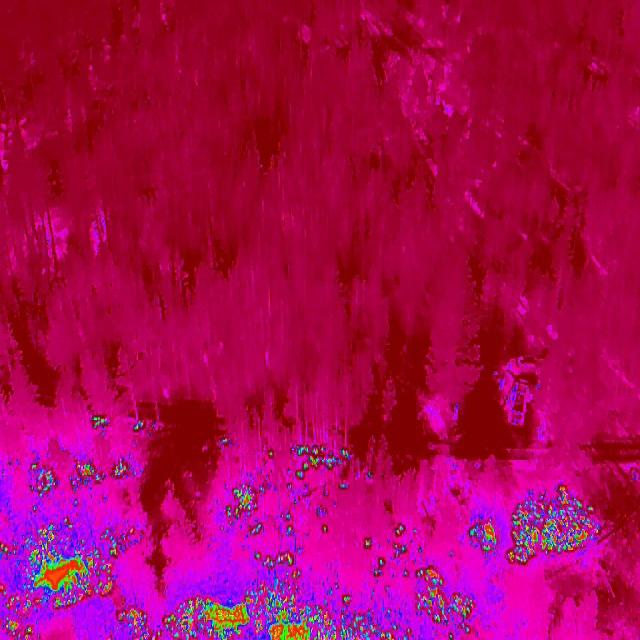fire: (216, 430, 355, 568), (0, 516, 141, 639), (162, 567, 307, 639), (503, 482, 606, 569), (24, 451, 136, 504), (412, 558, 480, 636), (356, 514, 428, 587), (305, 591, 410, 640), (116, 597, 163, 640), (88, 413, 160, 438), (468, 512, 501, 560)
